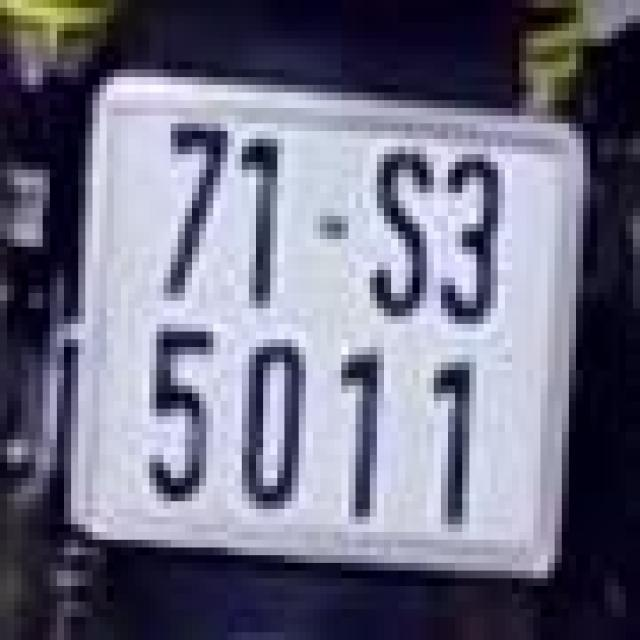0: (238, 324, 310, 516)
1: (416, 351, 480, 544), (330, 343, 388, 536), (231, 120, 288, 312)
3: (434, 146, 505, 340)
5: (142, 312, 220, 520)
7: (153, 108, 231, 301)
S: (367, 146, 438, 324)
